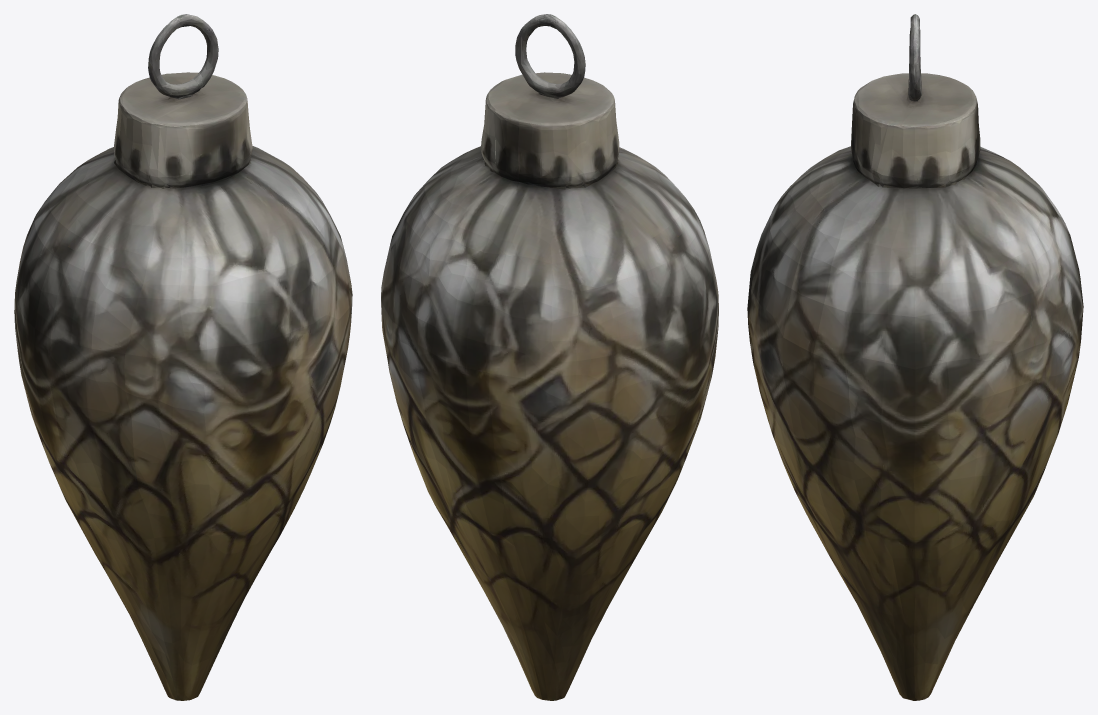
3 views of the same model, side by side, from view 1: azimuth 30°, elevation 25°; view 2: azimuth 150°, elevation 25°; view 3: azimuth 270°, elevation 25° (orthographic).
Parts seen in each view (by area): view 1: world; view 2: world; view 3: world.
Boxes of the visible parts, left/top/right/bottom form: world: left=14, top=14, right=352, bottom=700; world: left=381, top=14, right=718, bottom=700; world: left=747, top=14, right=1083, bottom=700.
Size of the model in its own units: 0.4579 by 0.9992 by 0.4492.
Materials: 1 (1 with a texture image).
